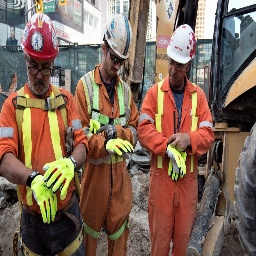helmet: (20, 9, 62, 63), (165, 19, 197, 68), (102, 13, 134, 61)
person: (72, 11, 139, 256), (9, 11, 72, 245), (150, 23, 214, 253)
vest: (6, 86, 76, 234), (143, 80, 208, 234), (82, 69, 137, 199)
